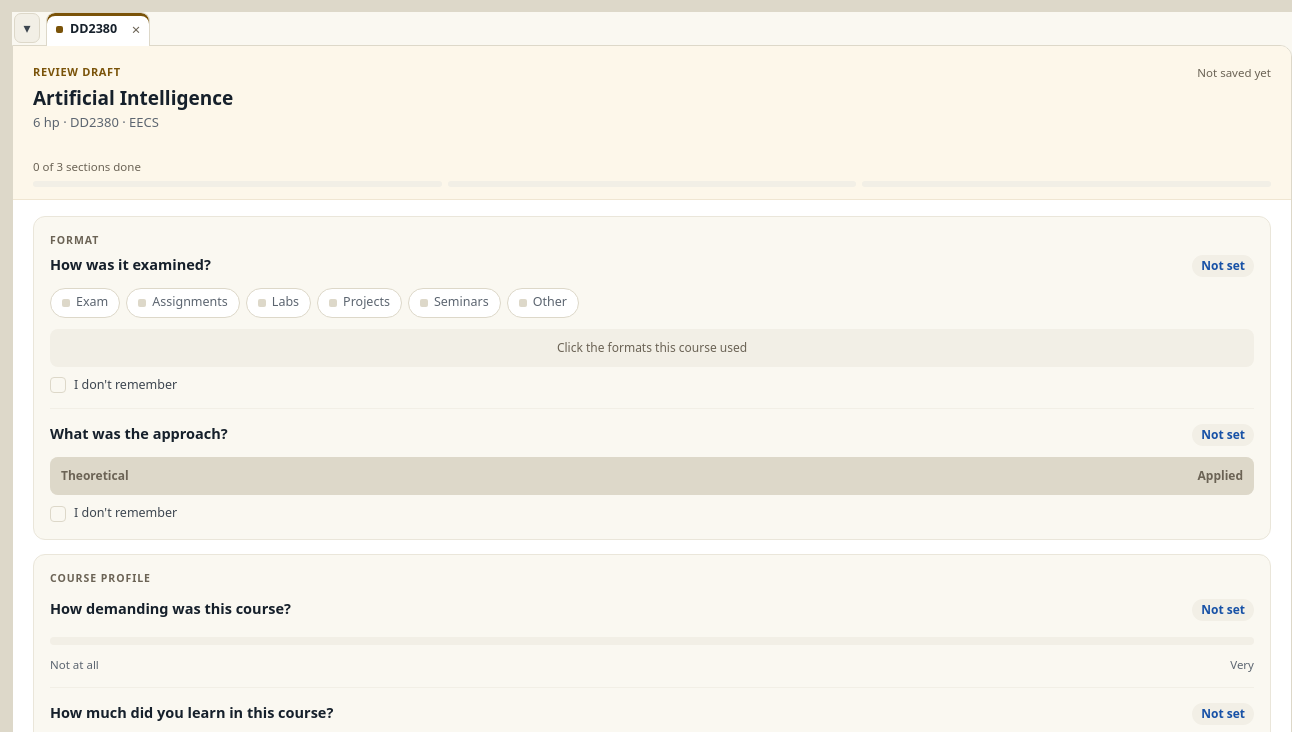
Scenario: the review draft tab › counts the sections as they are answered
This screenshot has width=1292, height=732.
Check: the text "0 of 3 sections done" is shown, box [33,158,141,174]
What coordinates should you click on to do the following:
click the checkbox named "I don't remember how it was examined"
I would click on:
 (114, 385)
Its box is [50,376,177,394].
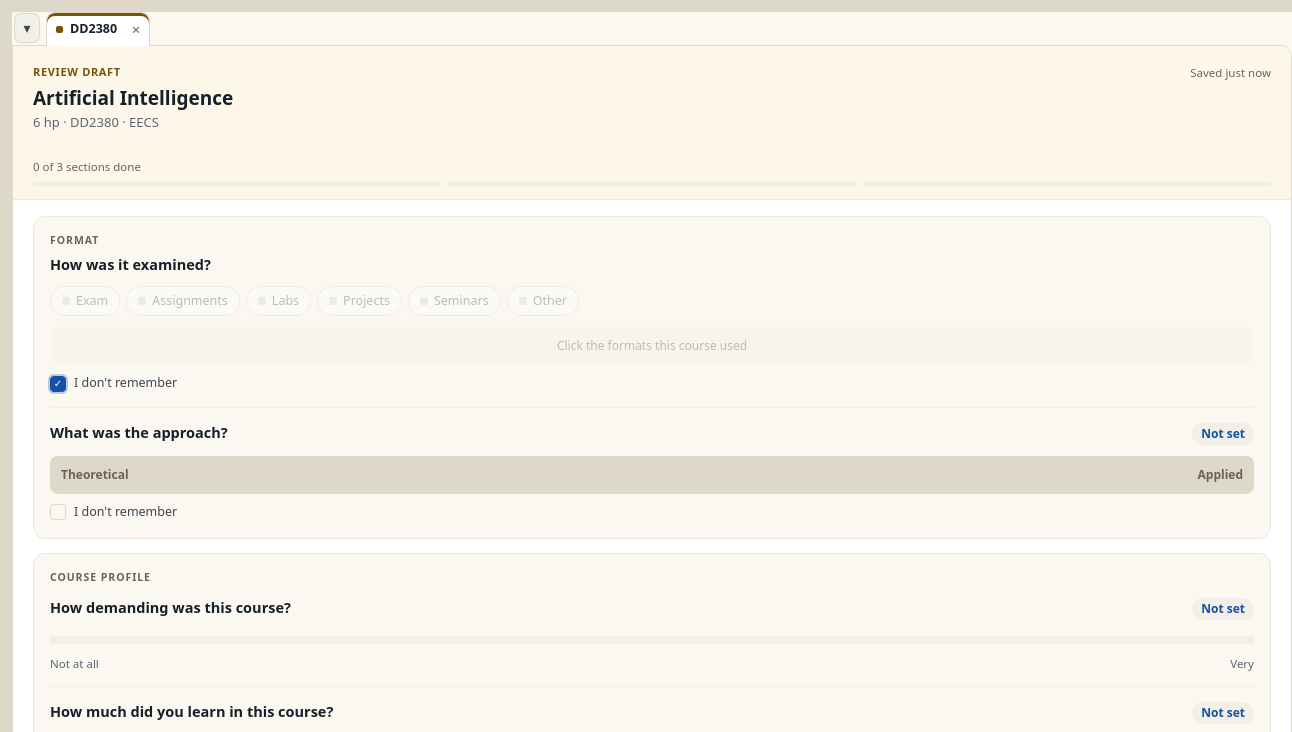
What coordinates should you click on to do the following:
click the checkbox named "I don't remember the approach"
I would click on:
 (114, 512)
Its box is [50,503,177,522].
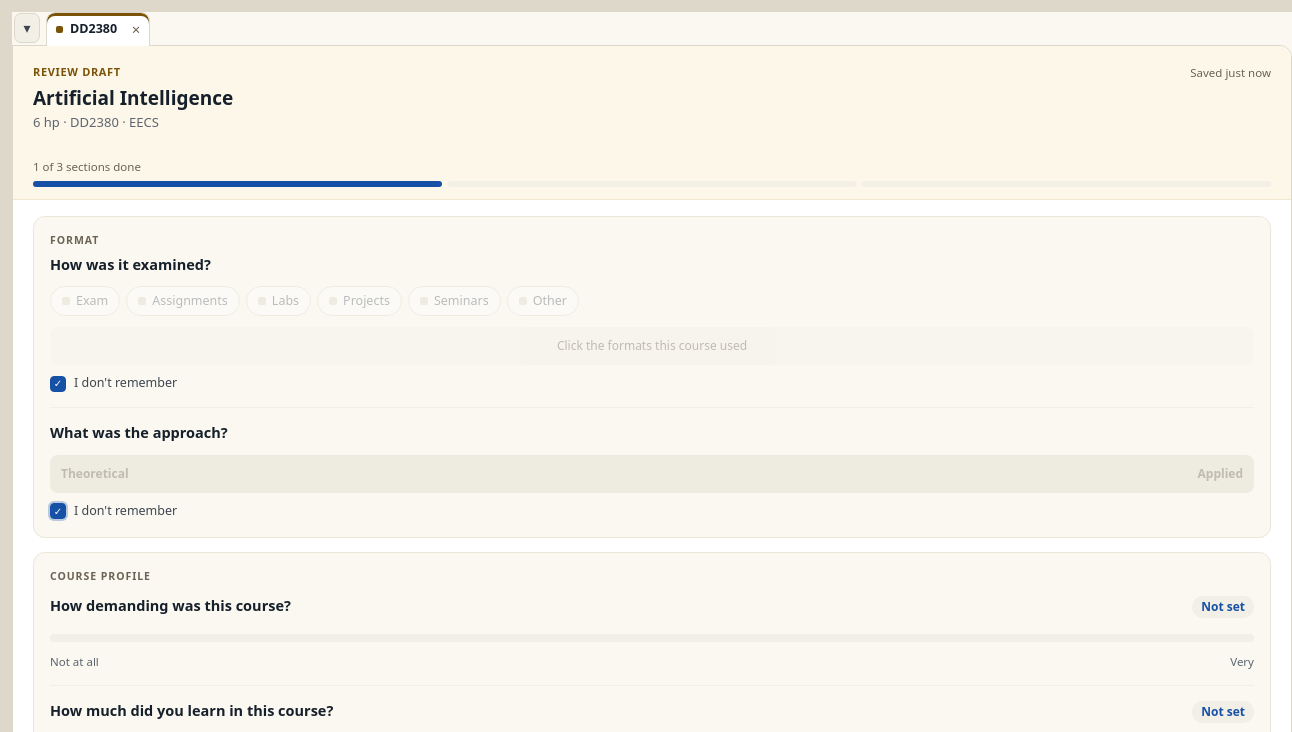
Check: the text "1 of 3 sections done" is shown, box [33,158,141,174]
